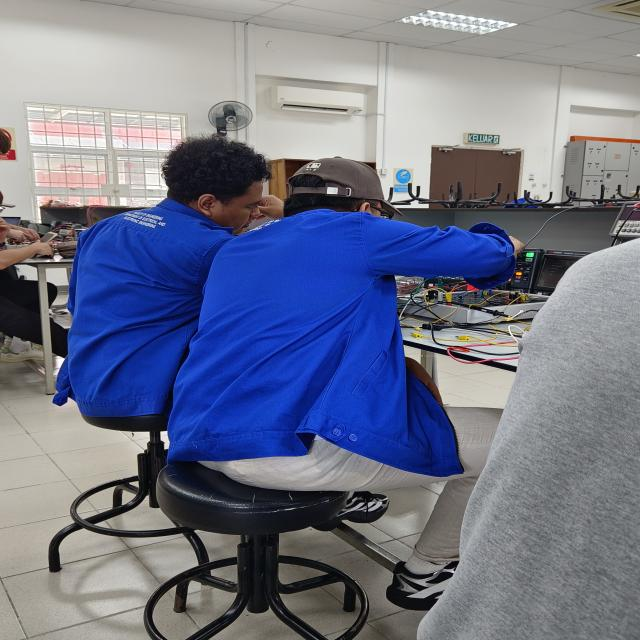person_with_labcoat: (168, 158, 523, 611), (53, 135, 272, 417)
